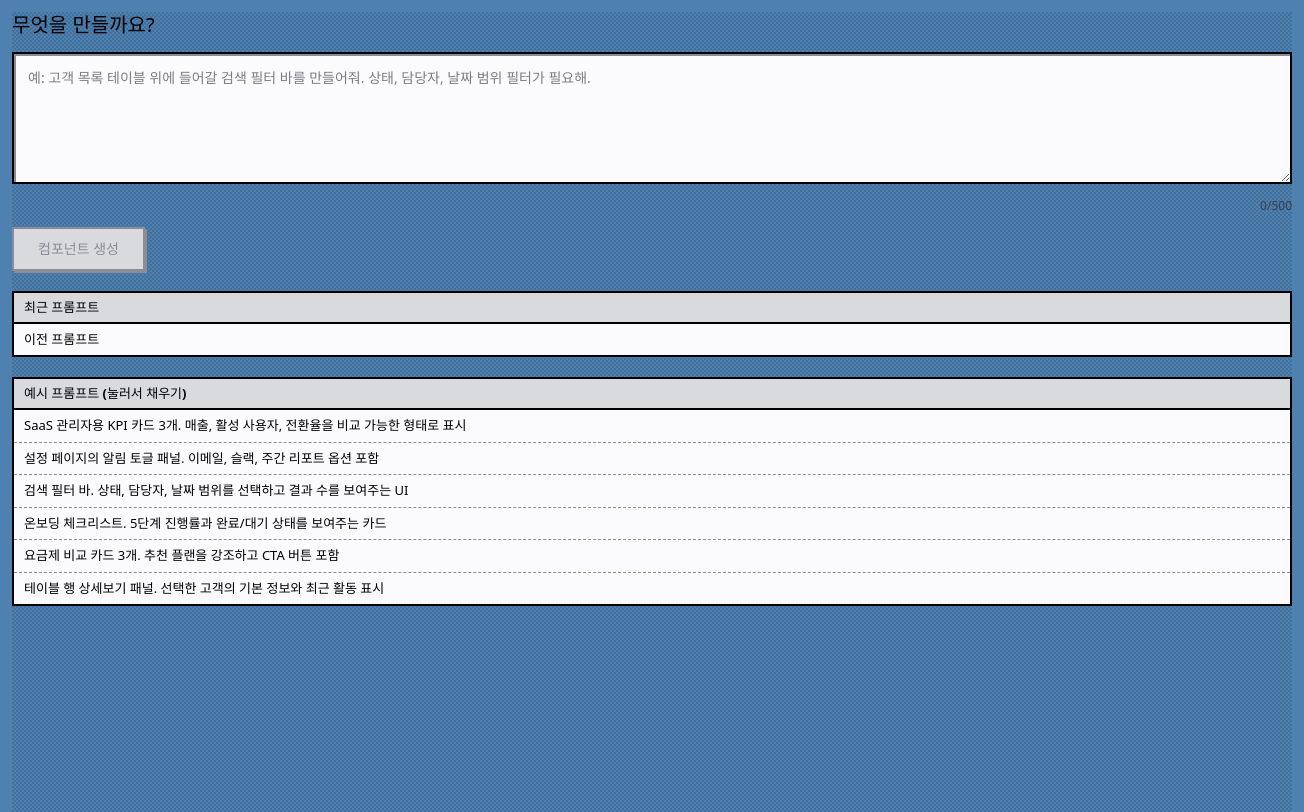
Test case: PromptInput › 히스토리 항목을 누르면 입력창에 채워진다
Click the button "이전 프롬프트" at [62, 339], box [14, 324, 1290, 356]
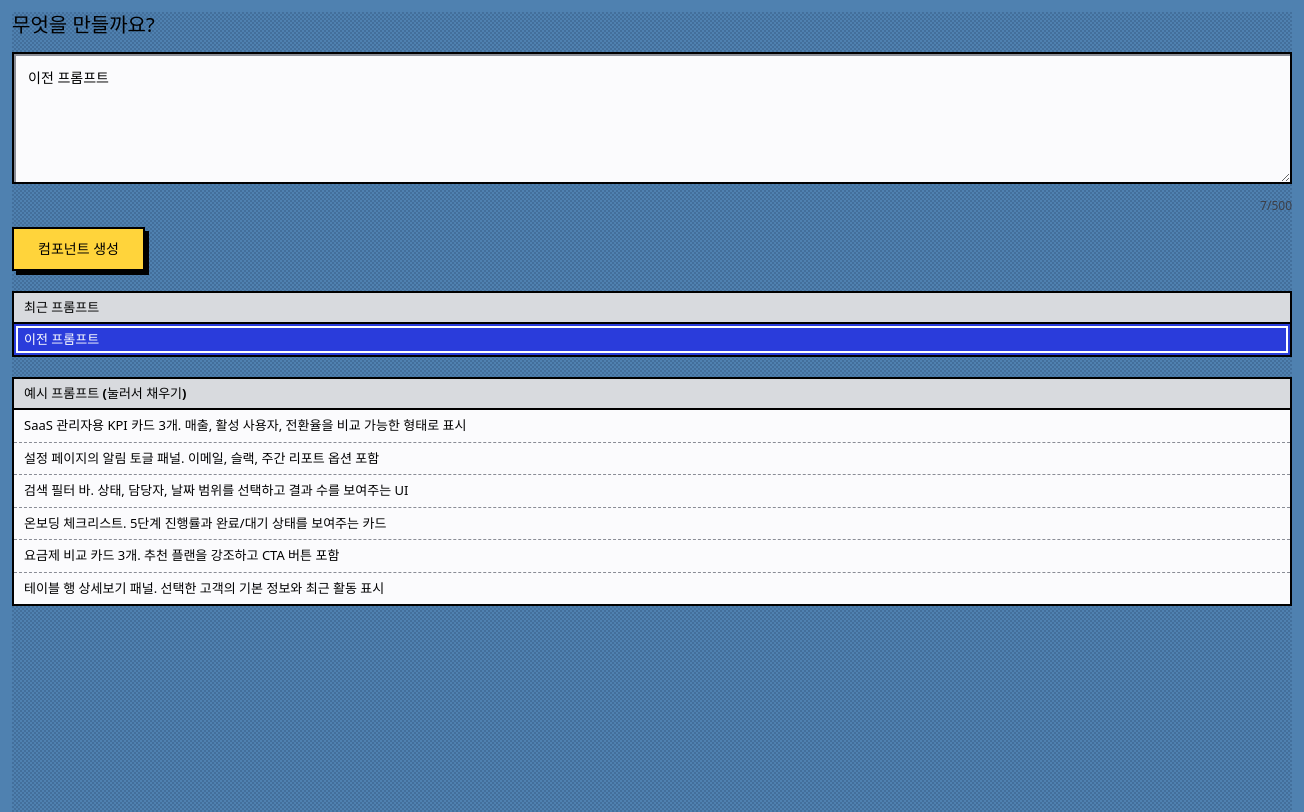
Check: the text box holds "이전 프롬프트", box [12, 52, 1292, 184]
